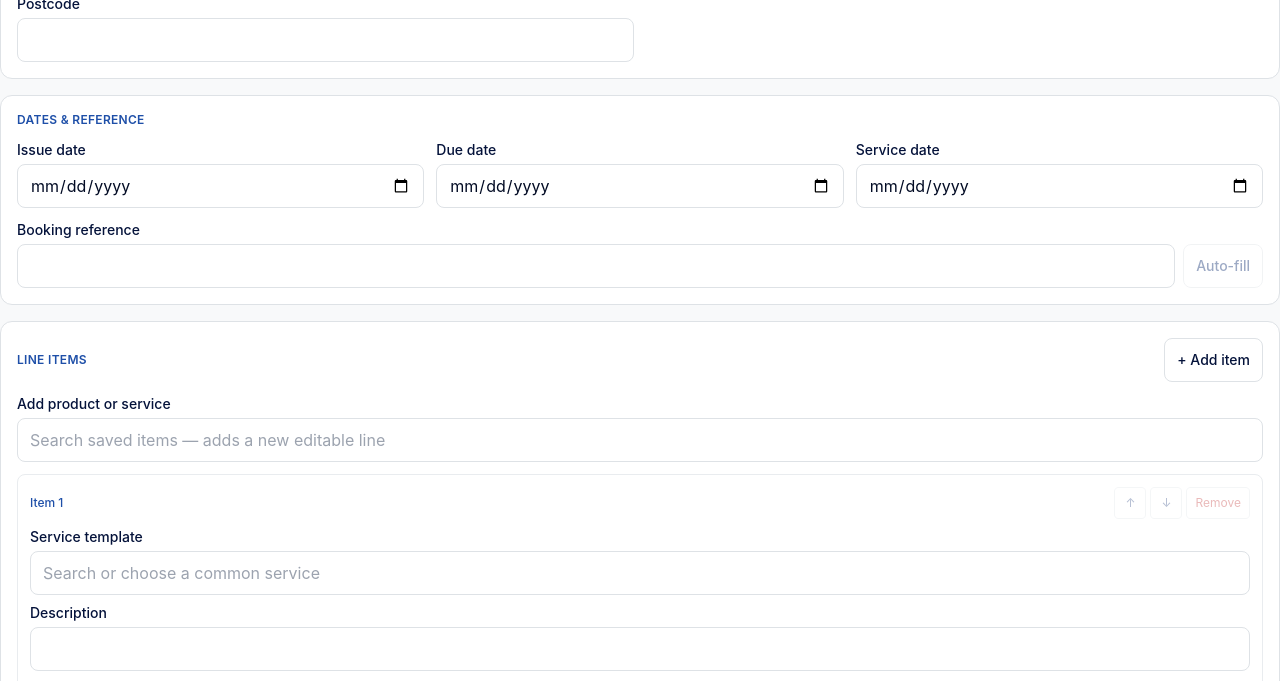
it: InvoiceItemsForm — catalogue selector › keeps the manual "+ Add item" flow working alongside the catalogue selector
This screenshot has width=1280, height=681.
(page scrolled)
Click the button "+ Add item" at (1214, 360), box [1164,338,1263,382]
(page scrolled)
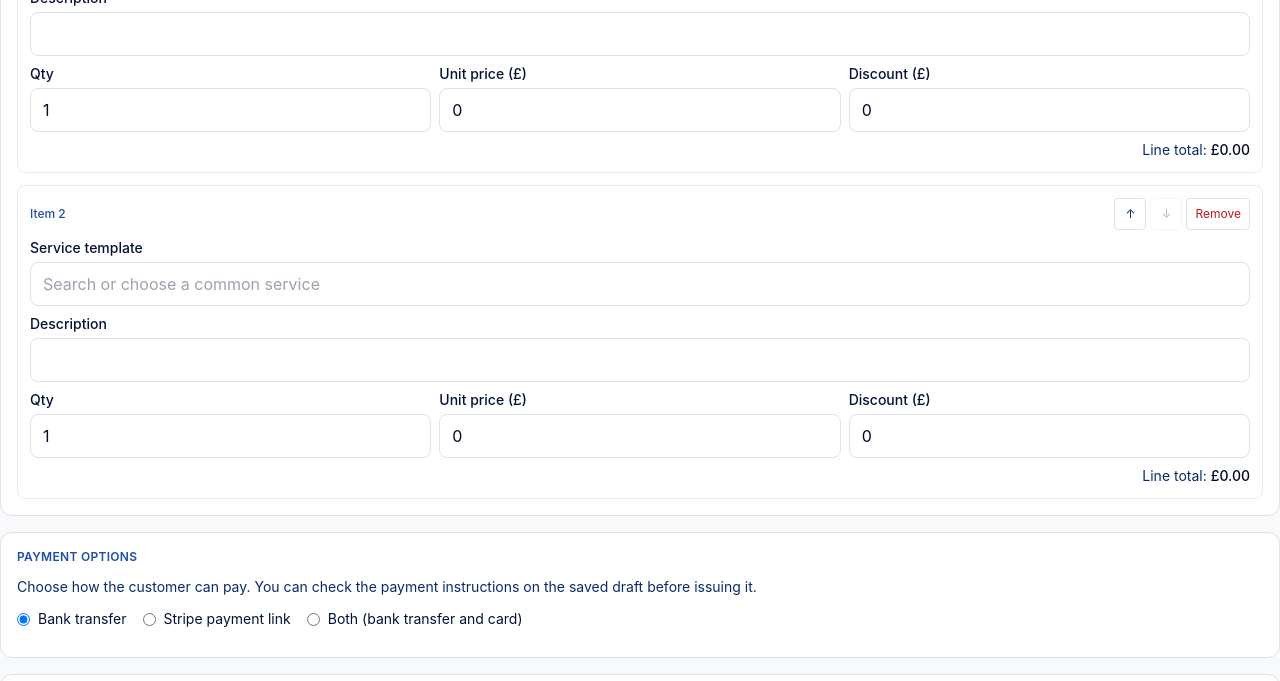
expect the number of fields labelled "Description" is 2: met, box [30,12,1250,56]; [30,338,1250,382]
expect the 2nd field labelled "Description" is empty: met, box [30,338,1250,382]
